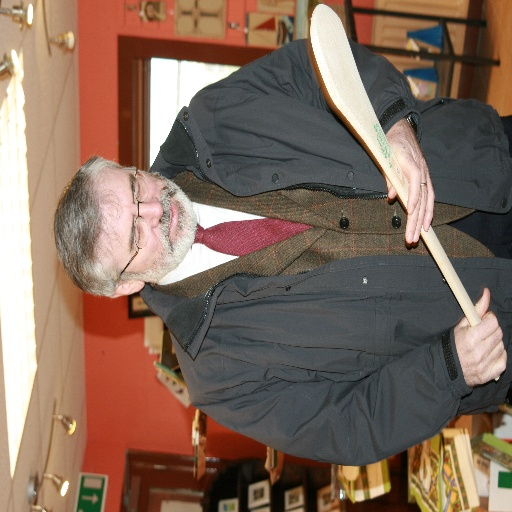hand: (381, 123, 436, 247), (453, 285, 508, 387)
